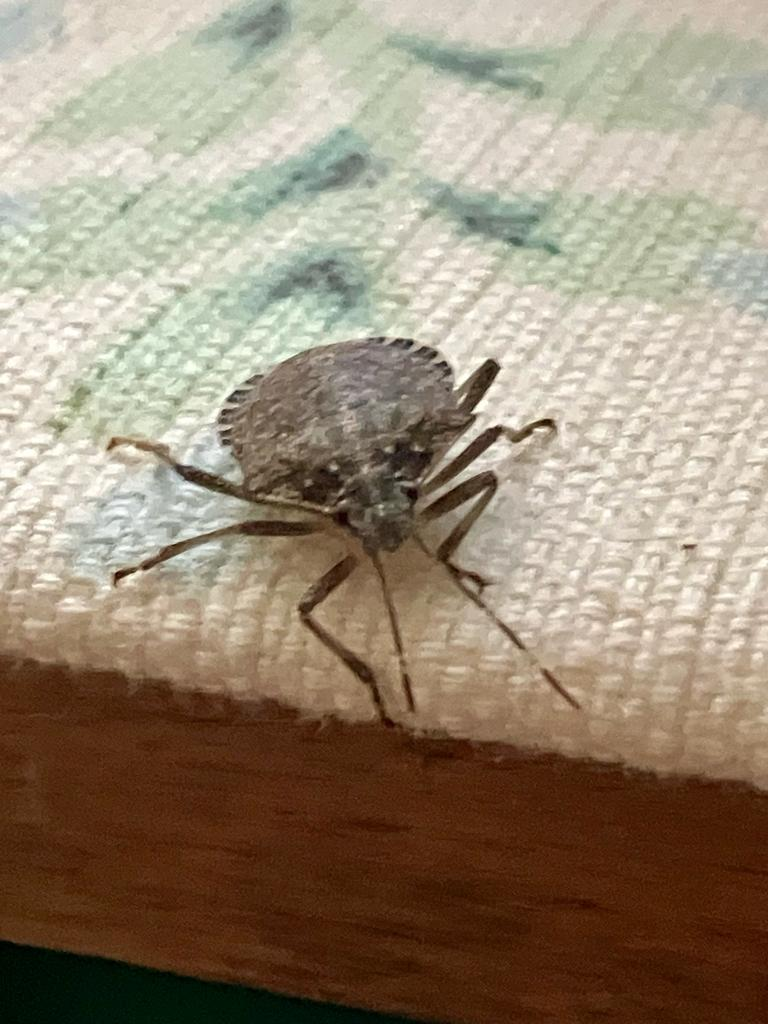stink_bugs: (53, 264, 664, 786)
